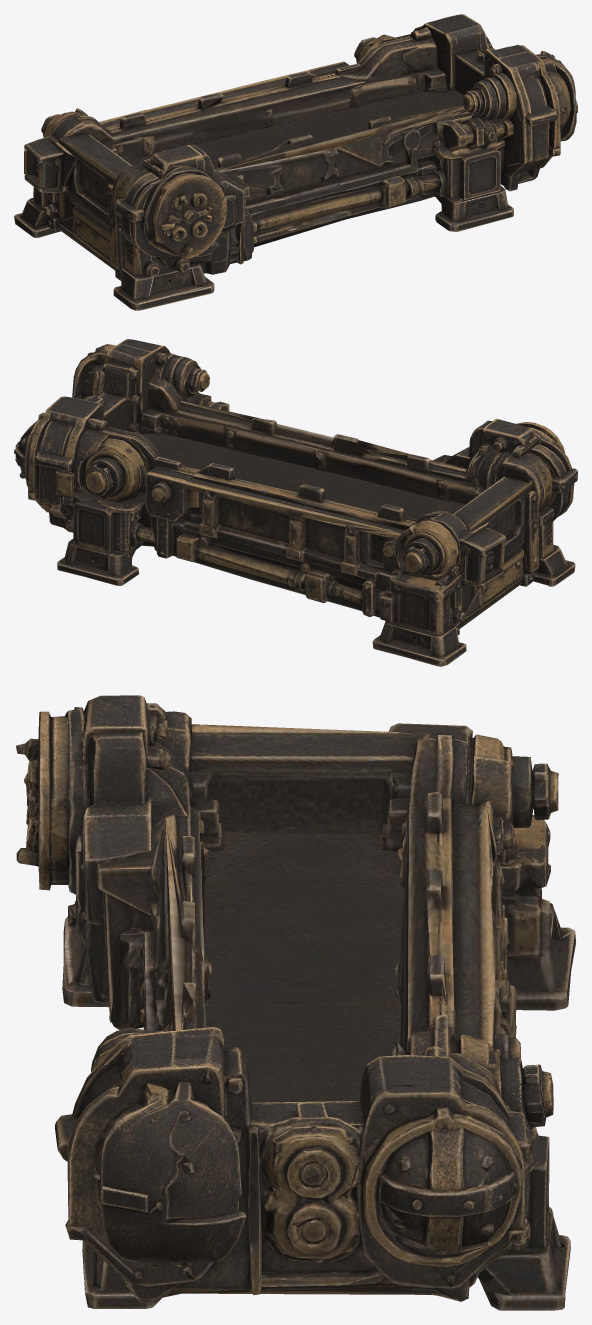
3 renders of one model, top to bottom at view 1: azimuth 30°, elevation 25°; view 2: azimuth 150°, elevation 25°; view 3: azimuth 270°, elevation 25°, orthographic. The views are drawn at different scales.
Parts seen in each view (by area): view 1: Mesh_0; view 2: Mesh_0; view 3: Mesh_0.
Part boxes in pixels (<box>): Mesh_0: <box>14,14,577,310</box>; Mesh_0: <box>14,339,577,666</box>; Mesh_0: <box>16,695,575,1310</box>.
Size of the model in its own units: 1.9 by 0.5539 by 0.9776.
1 material, 1 textured.
